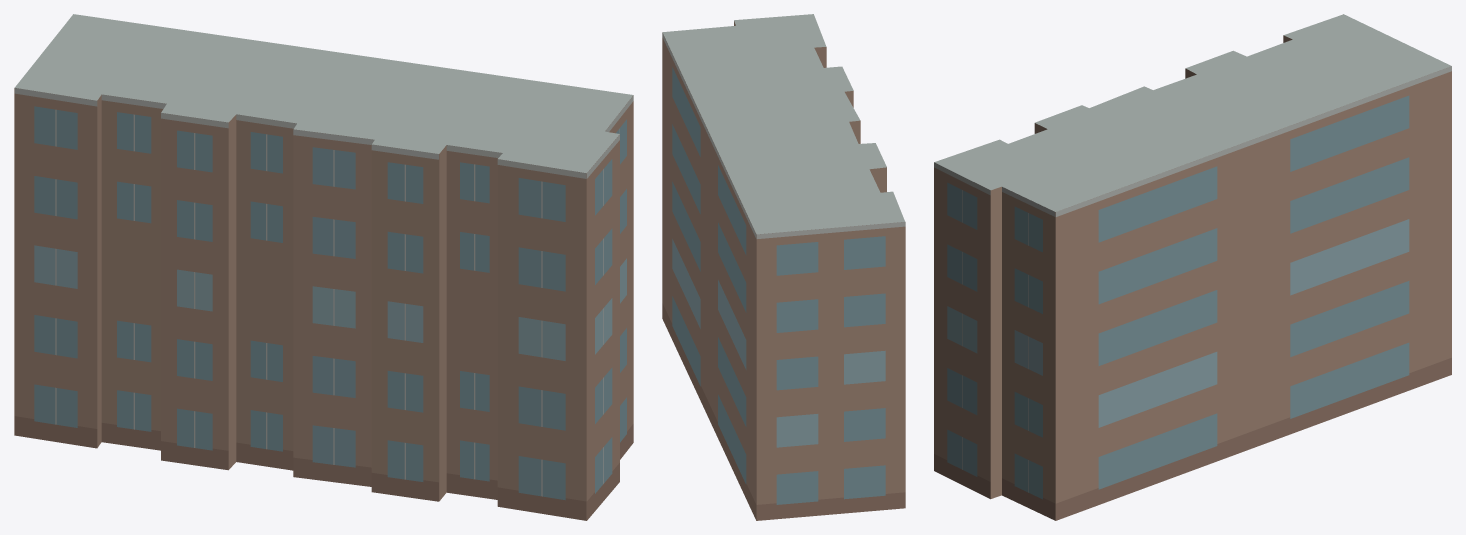
Rendered from survey-upis-32732946.glb.
3 views of the same model, side by side, from view 1: azimuth 30°, elevation 25°; view 2: azimuth 150°, elevation 25°; view 3: azimuth 270°, elevation 25° (orthographic). The views are drawn at different scales.
Visible parts, largest first — view 1: survey-upis-32732946.tmp; view 2: survey-upis-32732946.tmp; view 3: survey-upis-32732946.tmp.
Boxes of the visible parts, x1,y1,x2,y2 form: survey-upis-32732946.tmp: (14,14,633,520); survey-upis-32732946.tmp: (662,14,905,520); survey-upis-32732946.tmp: (934,14,1451,520).
Size of the model in its own units: 20.1 by 14.6 by 22.2.
